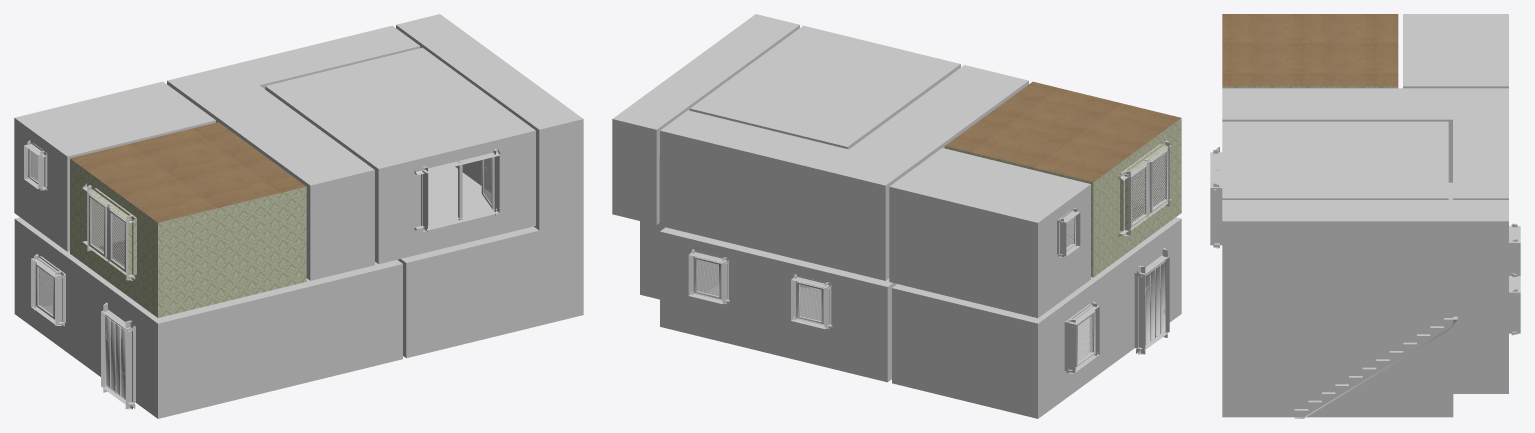
The model's file is Grundriss.fbx.
3 renders of one model, left to right at view 1: azimuth 30°, elevation 25°; view 2: azimuth 150°, elevation 25°; view 3: azimuth 270°, elevation 25°, orthographic.
Parts seen in each view (by area): view 1: Wohnzimmer, Schlafzimmer, Kinderzimmer, Treppenhaus, Flur_oben, Bad, Scheibe_2, Lamellen_3, Lamellen_2, Scheibe_6, Lamellen_6; view 2: Flur_oben, Wohnzimmer, Bad, Kueche, Schlafzimmer, Kinderzimmer, Treppenhaus, Scheibe_2, Lamellen_7, Lamellen_8, Scheibe_7, Scheibe_8 (+4 smaller); view 3: Treppenhaus, Kinderzimmer, Flur_oben, Schlafzimmer, Bad, Kueche, Treppe.
Boxes of the visible parts, <box> form: Wohnzimmer: <box>14,217,402,418</box>; Schlafzimmer: <box>70,122,306,317</box>; Kinderzimmer: <box>265,47,535,264</box>; Treppenhaus: <box>396,14,583,358</box>; Flur_oben: <box>167,25,420,280</box>; Bad: <box>14,81,215,251</box>; Scheibe_2: <box>91,199,124,266</box>; Lamellen_3: <box>111,214,124,267</box>; Lamellen_2: <box>91,199,103,252</box>; Scheibe_6: <box>37,258,59,314</box>; Lamellen_6: <box>38,268,53,314</box>; Flur_oben: <box>660,65,1028,280</box>; Wohnzimmer: <box>892,217,1181,418</box>; Bad: <box>889,148,1090,317</box>; Kueche: <box>660,227,896,382</box>; Schlafzimmer: <box>944,81,1181,277</box>; Kinderzimmer: <box>690,25,960,149</box>; Treppenhaus: <box>612,14,799,299</box>; Scheibe_2: <box>1132,155,1165,222</box>; Lamellen_7: <box>799,284,821,321</box>; Lamellen_8: <box>697,259,718,296</box>; Scheibe_7: <box>797,285,824,325</box>; Scheibe_8: <box>694,260,721,300</box>; Treppenhaus: <box>1222,200,1508,417</box>; Kinderzimmer: <box>1210,121,1448,245</box>; Flur_oben: <box>1222,88,1508,199</box>; Schlafzimmer: <box>1222,14,1398,88</box>; Bad: <box>1403,14,1508,88</box>; Kueche: <box>1453,226,1520,393</box>; Treppe: <box>1294,316,1457,418</box>.
Bounding box in the file's own units: 1399 × 612 × 857.
Materials: 4 (3 with a texture image).
